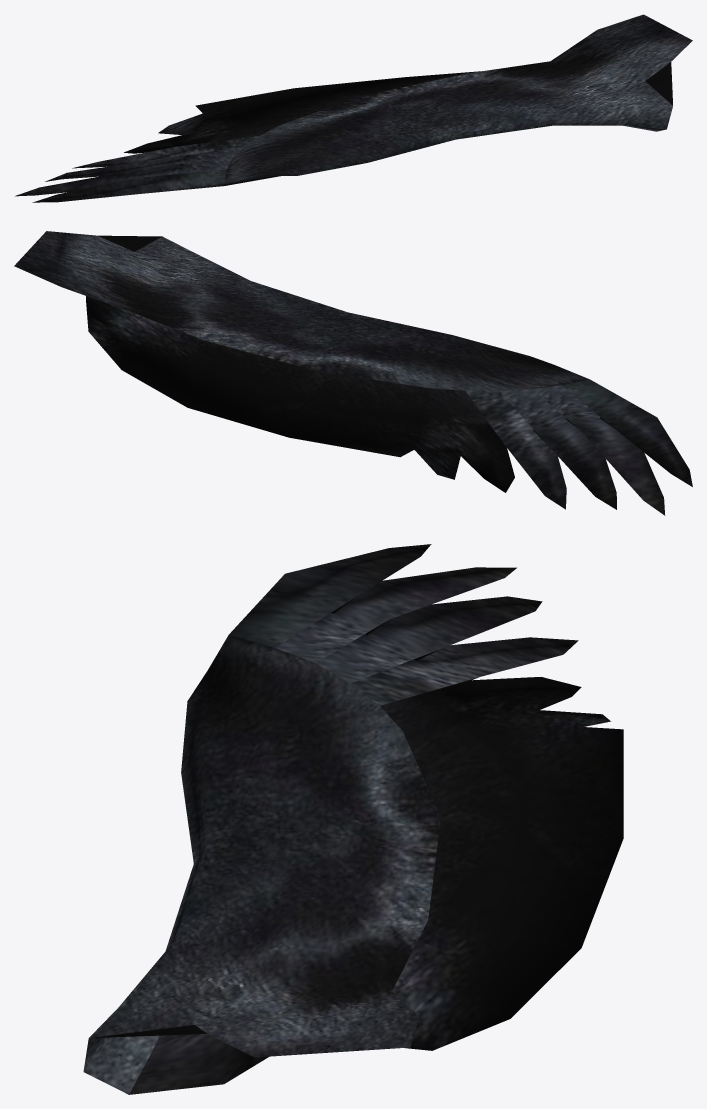
The model's file is AlaD.obj.
3 renders of one model, top to bottom at view 1: azimuth 30°, elevation 25°; view 2: azimuth 150°, elevation 25°; view 3: azimuth 270°, elevation 25°, orthographic. The views are drawn at different scales.
Visible parts, largest first — view 1: Cube.001; view 2: Cube.001; view 3: Cube.001.
Boxes of the visible parts, x1,y1,x2,y2 form: Cube.001: (15, 14, 692, 202); Cube.001: (14, 231, 692, 515); Cube.001: (83, 544, 623, 1094).
Size of the model in its own units: 5.23 by 0.4488 by 1.99.
2 materials, 2 textured.
